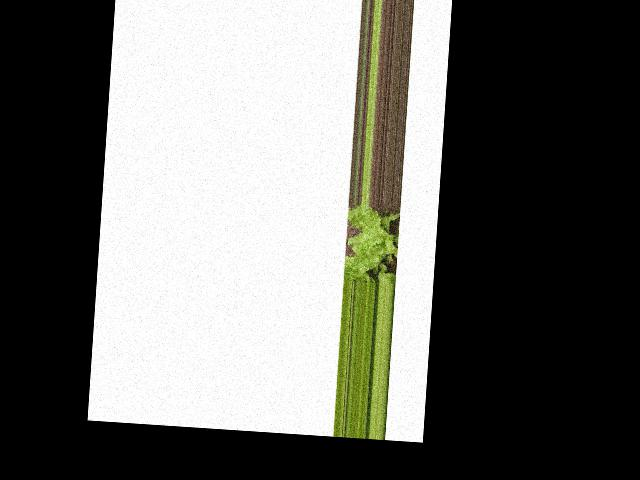lettuce: (345, 204, 404, 285)
